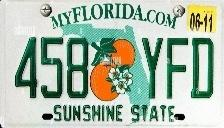4: (13, 35, 40, 100)
5: (39, 36, 65, 100)
8: (65, 36, 89, 100)
D: (189, 36, 215, 100)
F: (164, 37, 191, 100)
Y: (137, 36, 166, 101)
